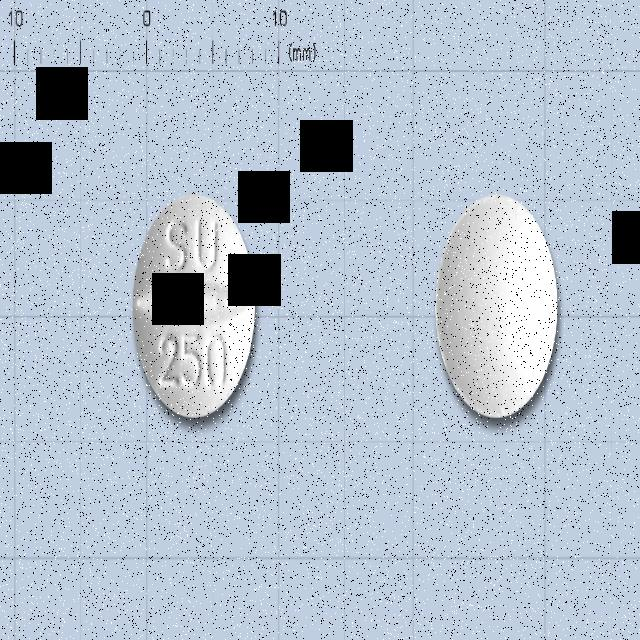Ciptec: (130, 190, 262, 424)
